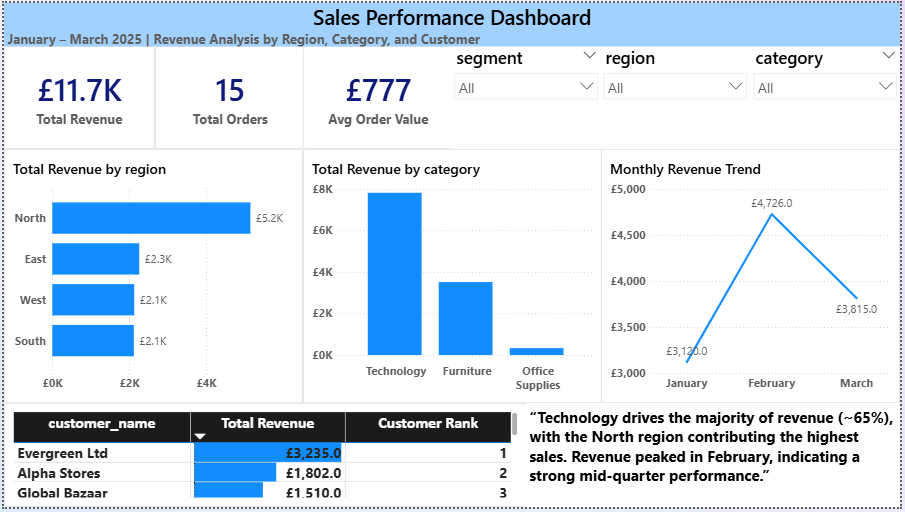

What the dashboard file says about the page in this screenshot:
{"tool":"powerbi","page":{"name":"Page 1","canvas":[1280,720],"ordinal":0},"visuals":[{"type":"card","fields":{"Values":["sql_to_excel_data_project.Total Revenue"]},"box":[0,61.8,215,146.7],"z":0},{"type":"card","fields":{"Values":["sql_to_excel_data_project.Total Orders"]},"box":[215,61.8,215,146.7],"z":1000},{"type":"card","fields":{"Values":["sql_to_excel_data_project.Avg Order Value"]},"box":[426.7,61.8,215,146.7],"z":2000},{"type":"barChart","fields":{"Category":["sql_to_excel_data_project.region"],"Y":["sql_to_excel_data_project.Total Revenue"]},"box":[0,208.3,426.7,363.3],"z":3000},{"type":"columnChart","fields":{"Category":["sql_to_excel_data_project.category"],"Y":["sql_to_excel_data_project.Total Revenue"]},"box":[426.7,208.3,430,363.3],"z":4000},{"type":"lineChart","title":"Monthly Revenue Trend","fields":{"Category":["sql_to_excel_data_project.order_date.Variation.Date Hierarchy.Month"],"Y":["sql_to_excel_data_project.Total Revenue"]},"box":[853.3,208.3,426.7,363.3],"z":5000},{"type":"tableEx","fields":{"Values":["sql_to_excel_data_project.customer_name","sql_to_excel_data_project.Total Revenue","sql_to_excel_data_project.Customer Rank"]},"box":[0,573.3,746.7,146.7],"z":6000},{"type":"actionButton","box":[1,16.7,100,40],"z":7000},{"type":"slicer","fields":{"Values":["sql_to_excel_data_project.region"]},"box":[851.7,61.8,215,146.7],"z":8000},{"type":"slicer","fields":{"Values":["sql_to_excel_data_project.category"]},"box":[1065,61.8,215,146.7],"z":9000},{"type":"slicer","fields":{"Values":["sql_to_excel_data_project.segment"]},"box":[638.3,61.8,215,146.7],"z":10000},{"type":"textbox","box":[746.7,573.3,535,146.7],"z":11000},{"type":"textbox","title":"Sales Performance Dashboard","box":[0,0,1280,62],"z":12000}]}

Visuals, with their boxes in screenshot pixels (x1, y1, x2, y2), scaled from the page's 1280x720 canvas onto the 905x512 screenshot:
card - sql_to_excel_data_project.Total Revenue: {"x1": 0, "y1": 44, "x2": 152, "y2": 148}
card - sql_to_excel_data_project.Total Orders: {"x1": 152, "y1": 44, "x2": 304, "y2": 148}
card - sql_to_excel_data_project.Avg Order Value: {"x1": 302, "y1": 44, "x2": 454, "y2": 148}
barChart - sql_to_excel_data_project.region x sql_to_excel_data_project.Total Revenue: {"x1": 0, "y1": 148, "x2": 302, "y2": 406}
columnChart - sql_to_excel_data_project.category x sql_to_excel_data_project.Total Revenue: {"x1": 302, "y1": 148, "x2": 606, "y2": 406}
"Monthly Revenue Trend" lineChart: {"x1": 603, "y1": 148, "x2": 904, "y2": 406}
tableEx - sql_to_excel_data_project.customer_name x sql_to_excel_data_project.Total Revenue: {"x1": 0, "y1": 408, "x2": 528, "y2": 511}
actionButton: {"x1": 1, "y1": 12, "x2": 71, "y2": 40}
slicer - sql_to_excel_data_project.region: {"x1": 602, "y1": 44, "x2": 754, "y2": 148}
slicer - sql_to_excel_data_project.category: {"x1": 753, "y1": 44, "x2": 904, "y2": 148}
slicer - sql_to_excel_data_project.segment: {"x1": 451, "y1": 44, "x2": 603, "y2": 148}
textbox: {"x1": 528, "y1": 408, "x2": 904, "y2": 511}
"Sales Performance Dashboard" textbox: {"x1": 0, "y1": 0, "x2": 904, "y2": 44}
